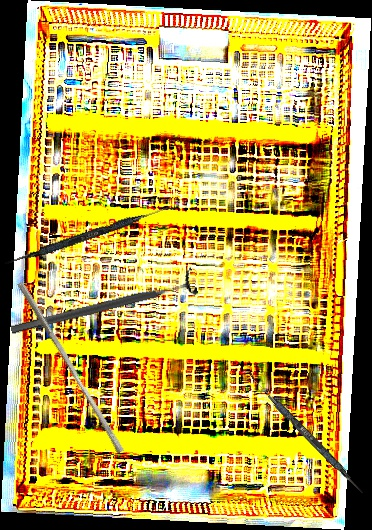Fixation Ring: (7, 265, 199, 346)
Pusher: (10, 280, 131, 455)
Spatula Surgical: (244, 372, 368, 495), (3, 199, 177, 271)
